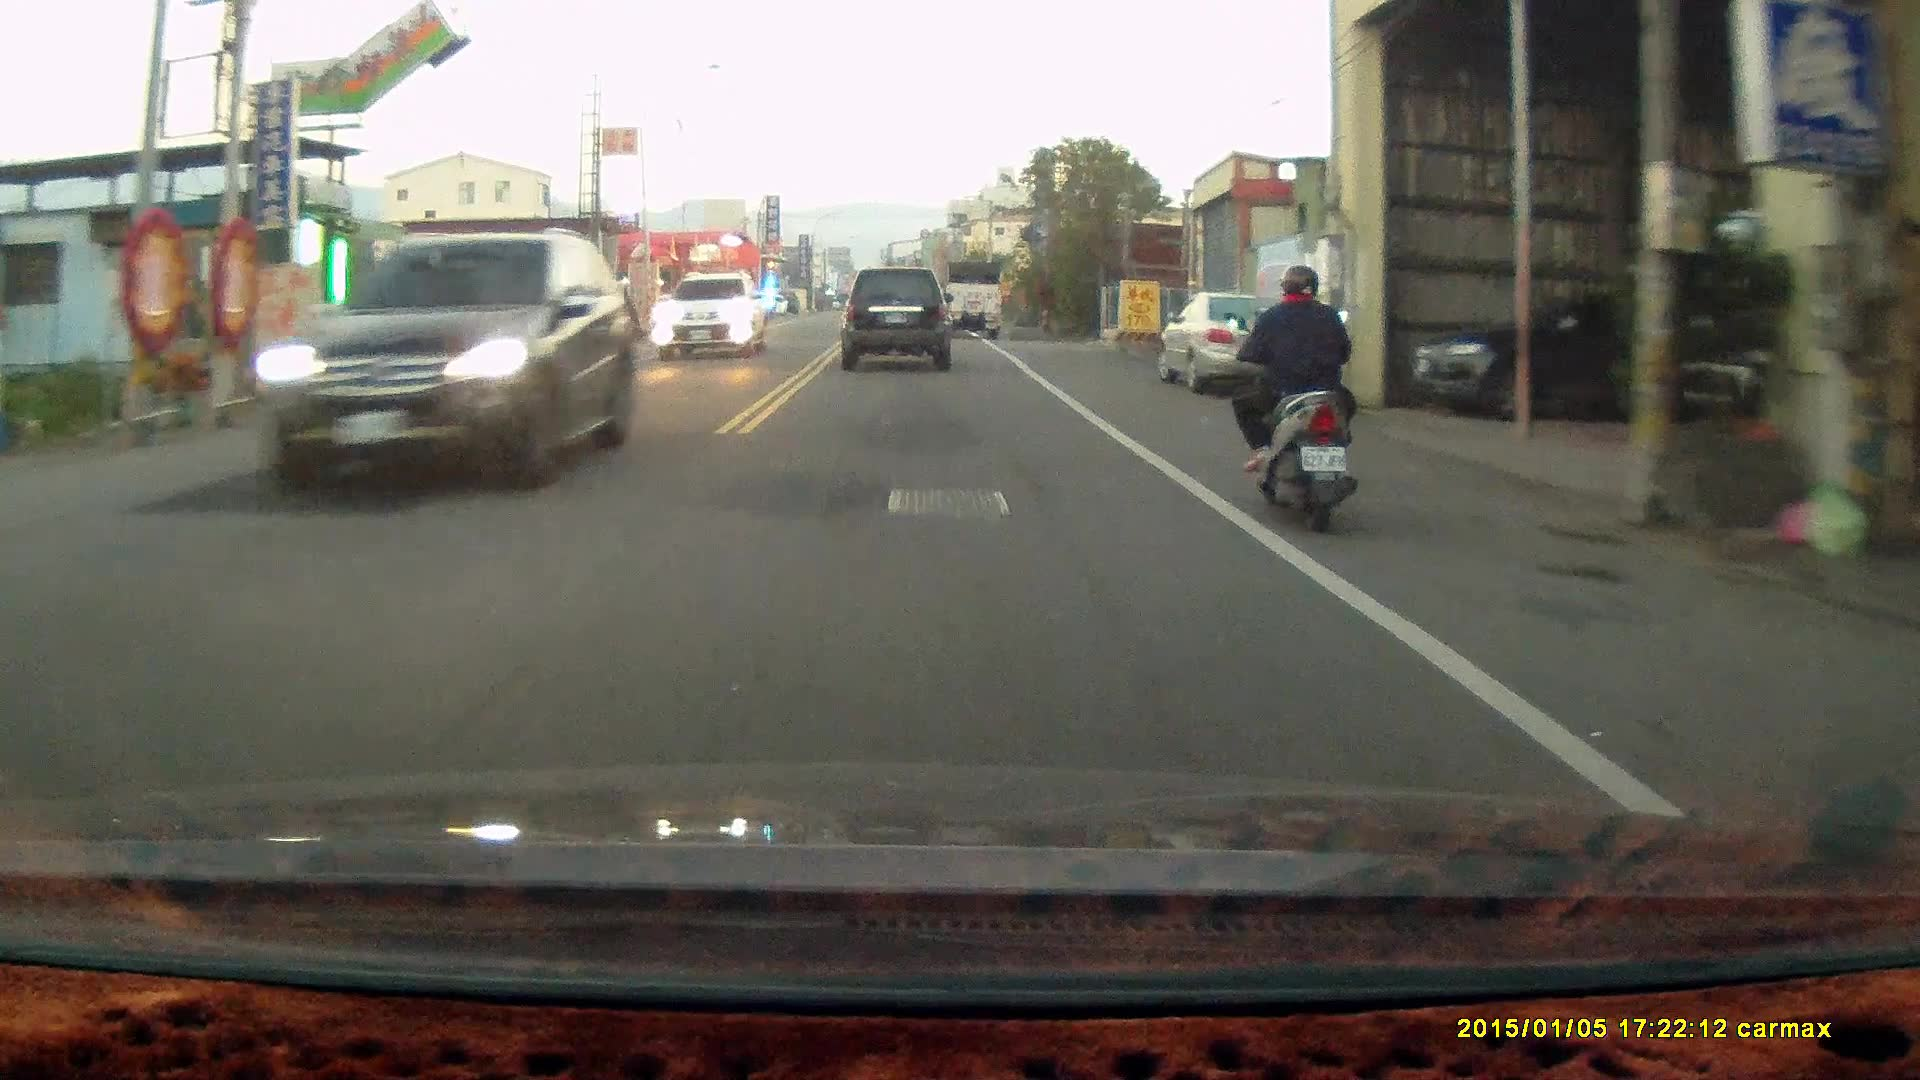rider: (1218, 258, 1357, 532)
vehicle: (251, 228, 647, 498), (1411, 295, 1700, 421), (1158, 287, 1320, 396), (841, 268, 955, 371), (652, 275, 772, 364), (934, 259, 1004, 338)
